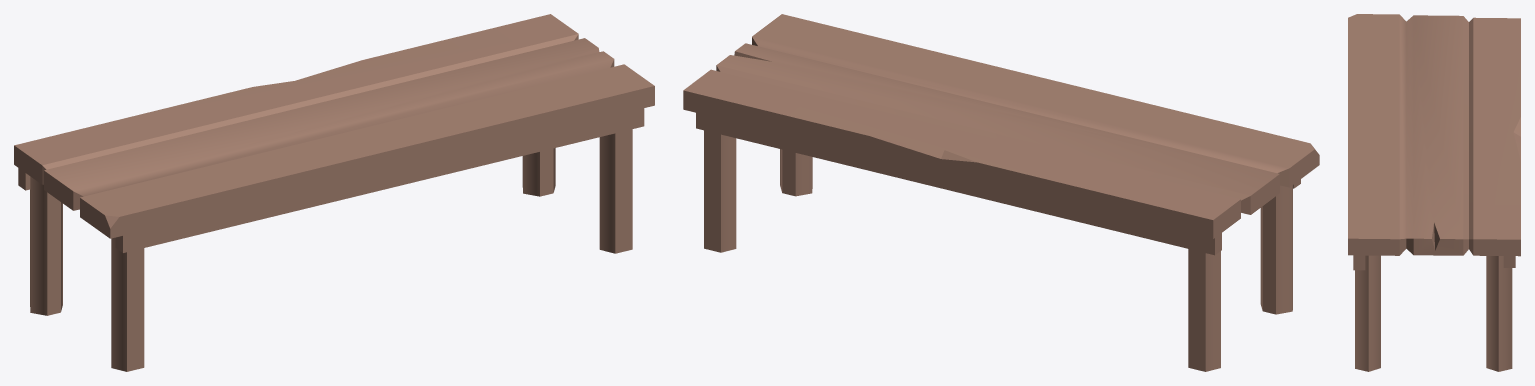
Rendered from Bench_02.fbx.
The picture shows the model from 3 angles, left to right: view 1: azimuth 30°, elevation 25°; view 2: azimuth 150°, elevation 25°; view 3: azimuth 270°, elevation 25°; orthographic projection. The views are drawn at different scales.
Parts seen in each view (by area): view 1: SM_Prop_JailBed_01; view 2: SM_Prop_JailBed_01; view 3: SM_Prop_JailBed_01.
Part boxes in pixels (x1,y1,x2,y2): SM_Prop_JailBed_01: (14,14,654,371); SM_Prop_JailBed_01: (683,14,1319,371); SM_Prop_JailBed_01: (1348,14,1520,371).
Size of the model in its own units: 185 by 52.75 by 60.09.
